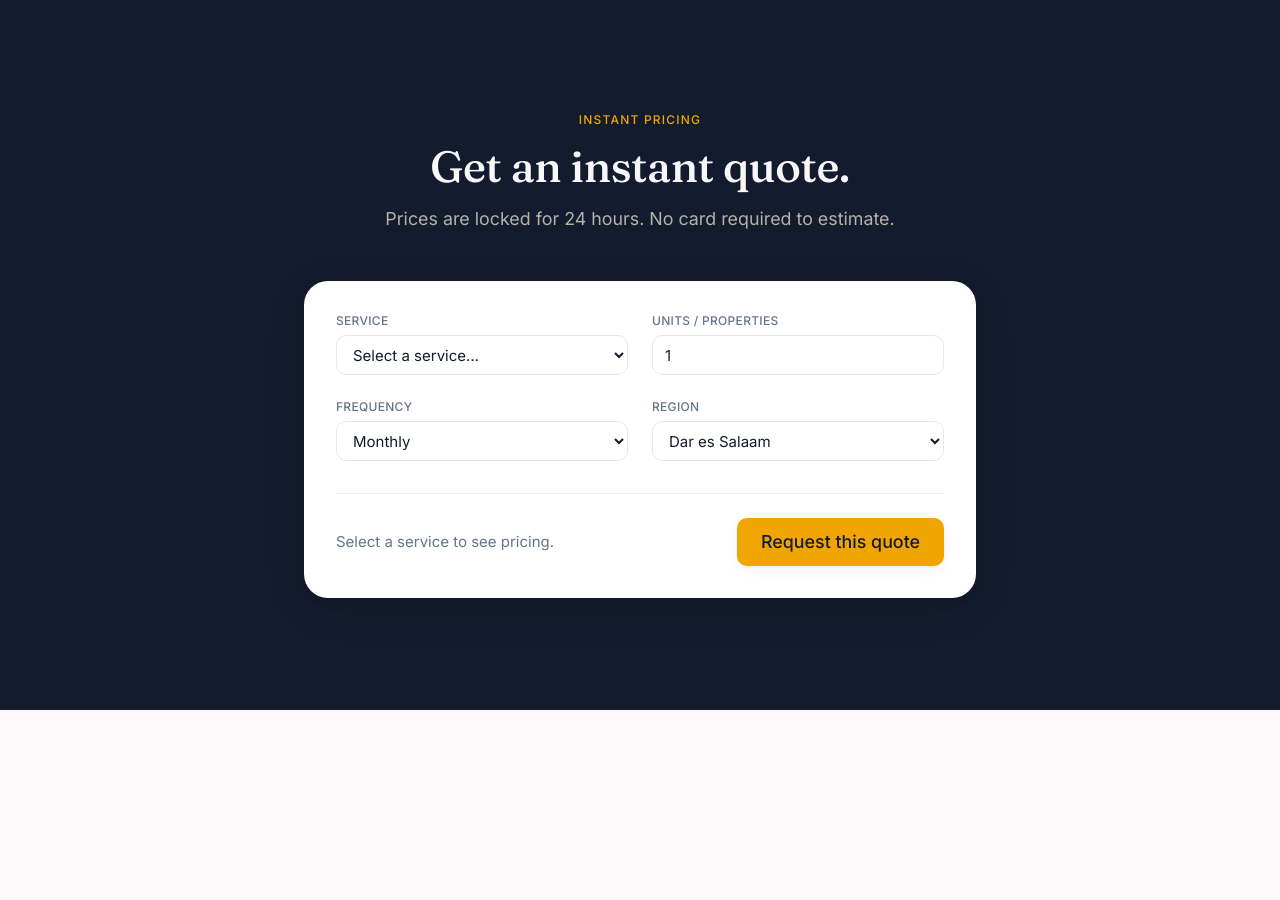
QuoteDemo › shows a price estimate when service is selected
The image size is (1280, 900).
Step 1. Select "Cleaning" in the dropdown labelled "Service" → (482, 355), box [336,335,628,375]
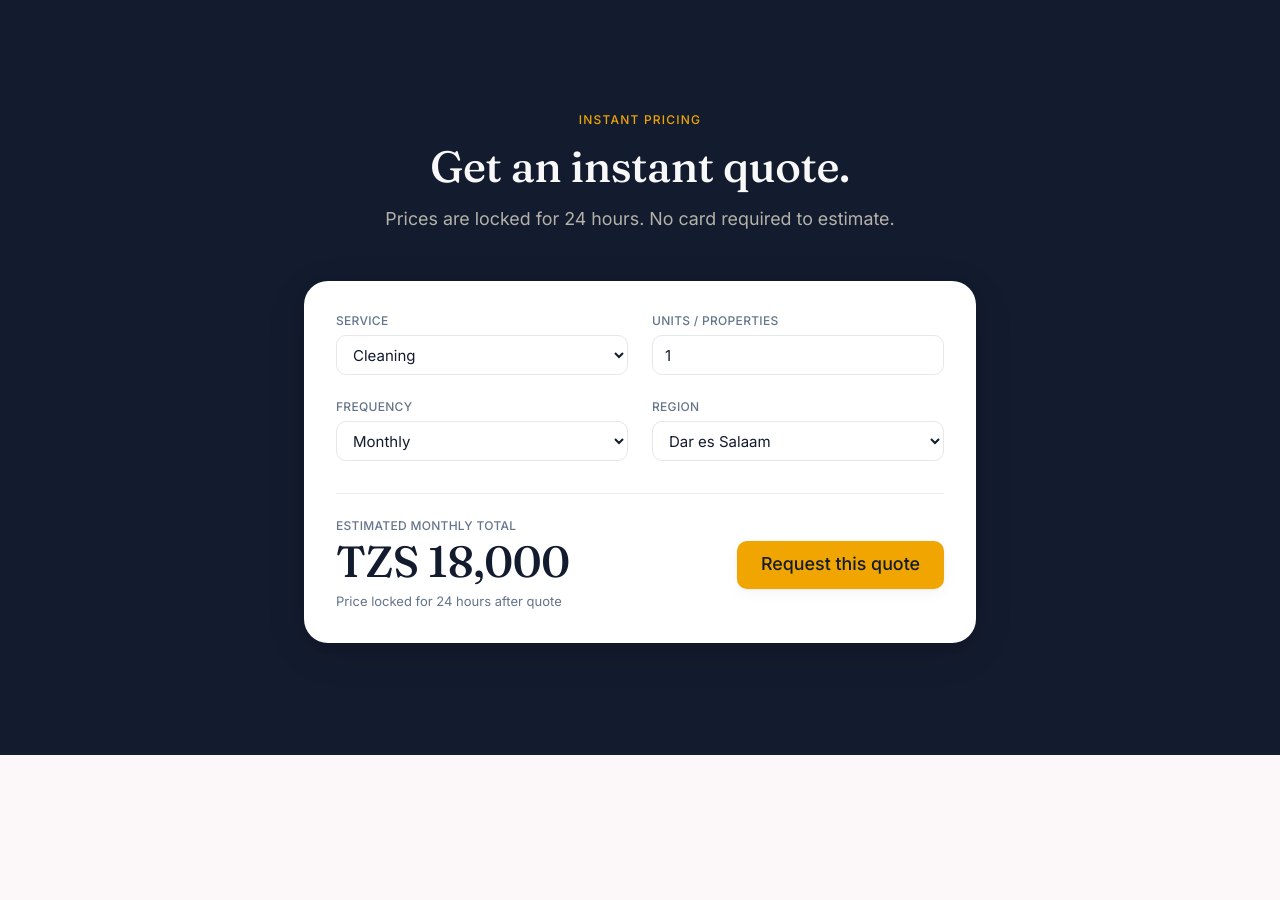
Expected: the text "TZS 18,000" is shown, [336,535,570,587]
